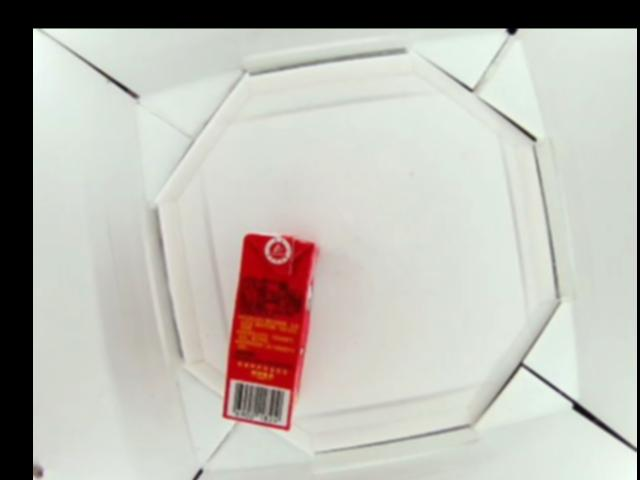Bottle: (227, 233, 317, 431)
